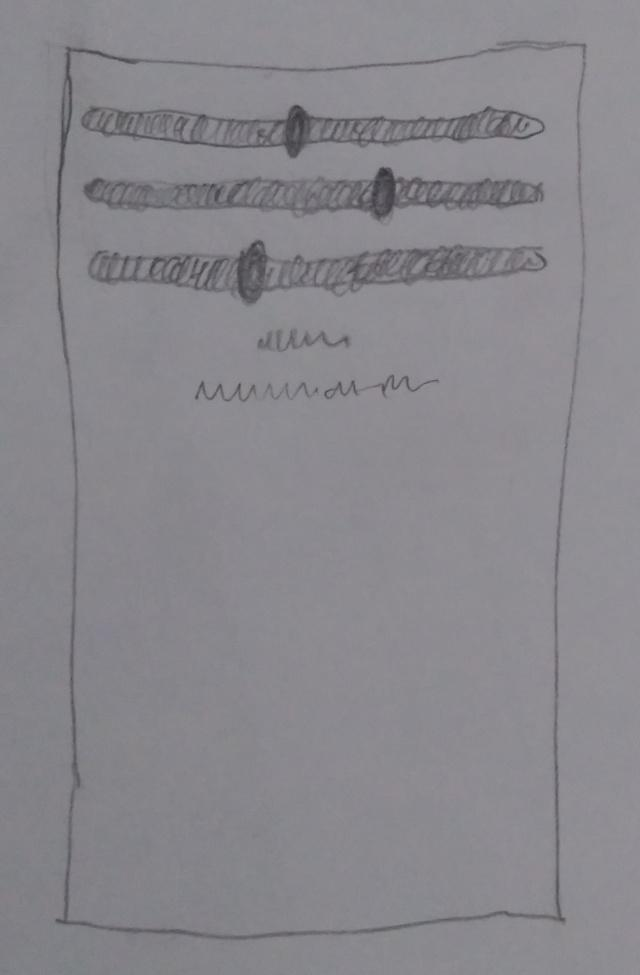Label: (194, 373, 441, 402), (255, 325, 350, 354)
Screen: (56, 44, 586, 939)
Slider: (88, 241, 547, 307), (82, 167, 545, 223), (81, 105, 546, 158)
